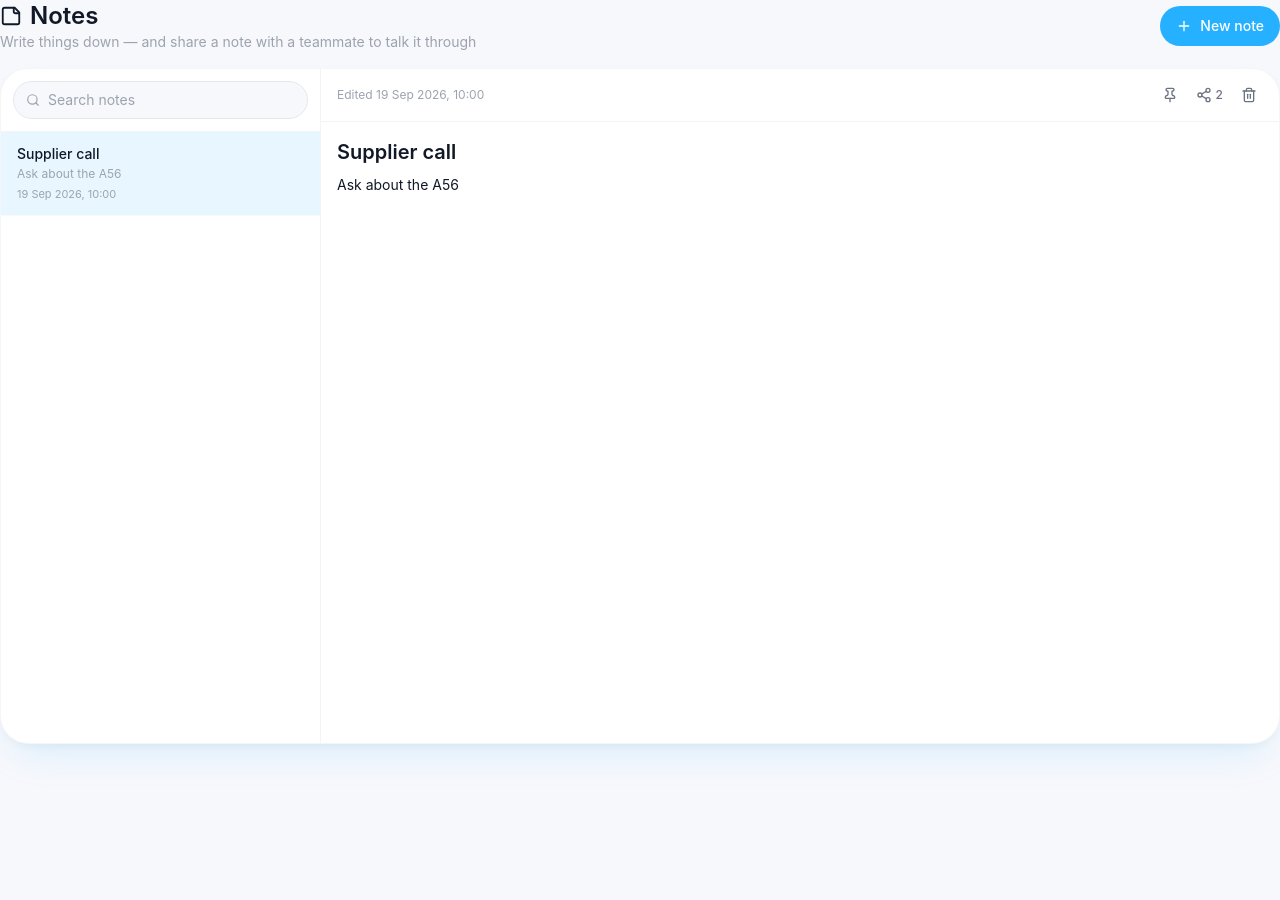
Scenario: NotesPage › sharing › doesn't offer people who already have access
Click the button named "Share note" at (1209, 95), box [1188,81,1231,109]
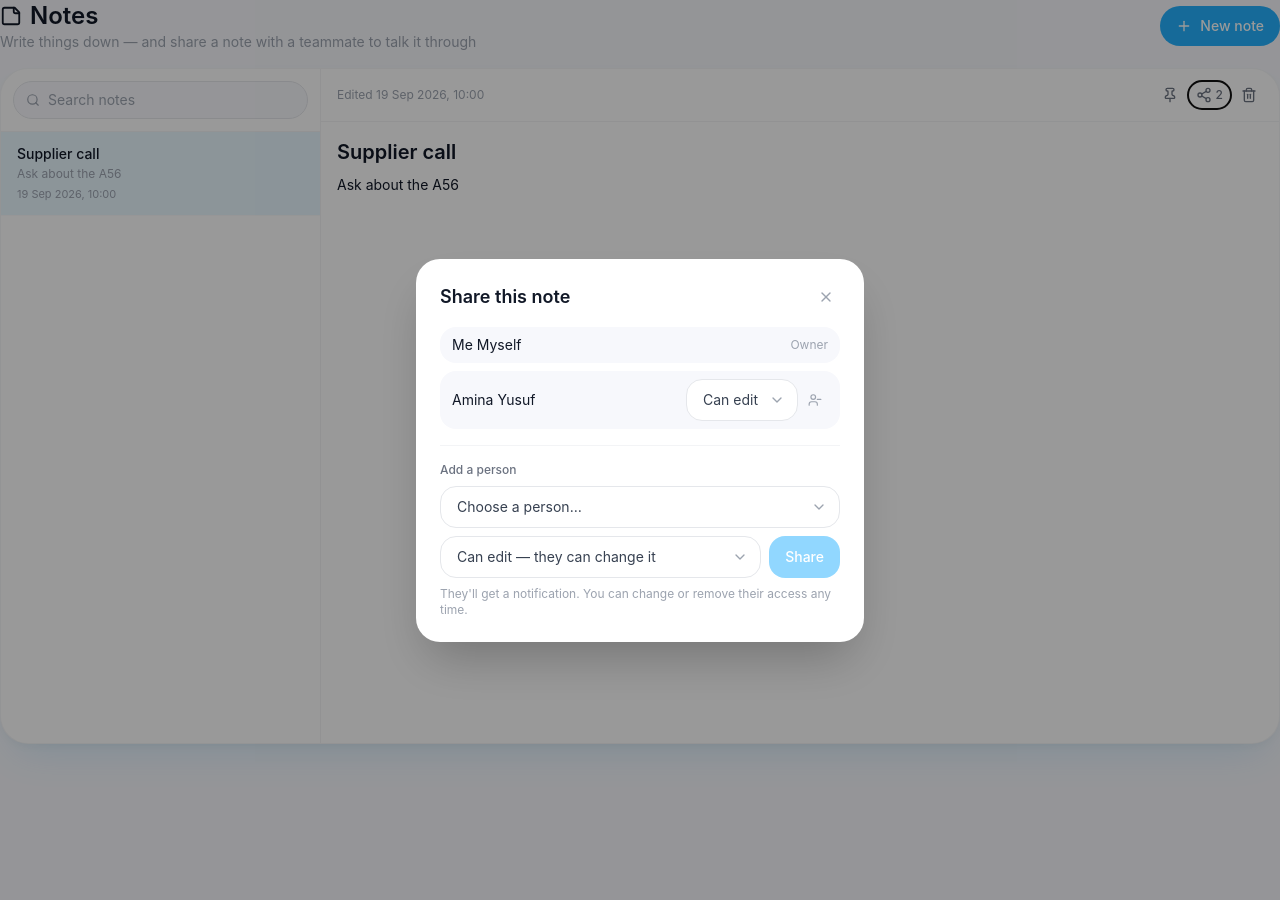
Click the button "Choose a person…" at (519, 506), box [440,486,840,528]
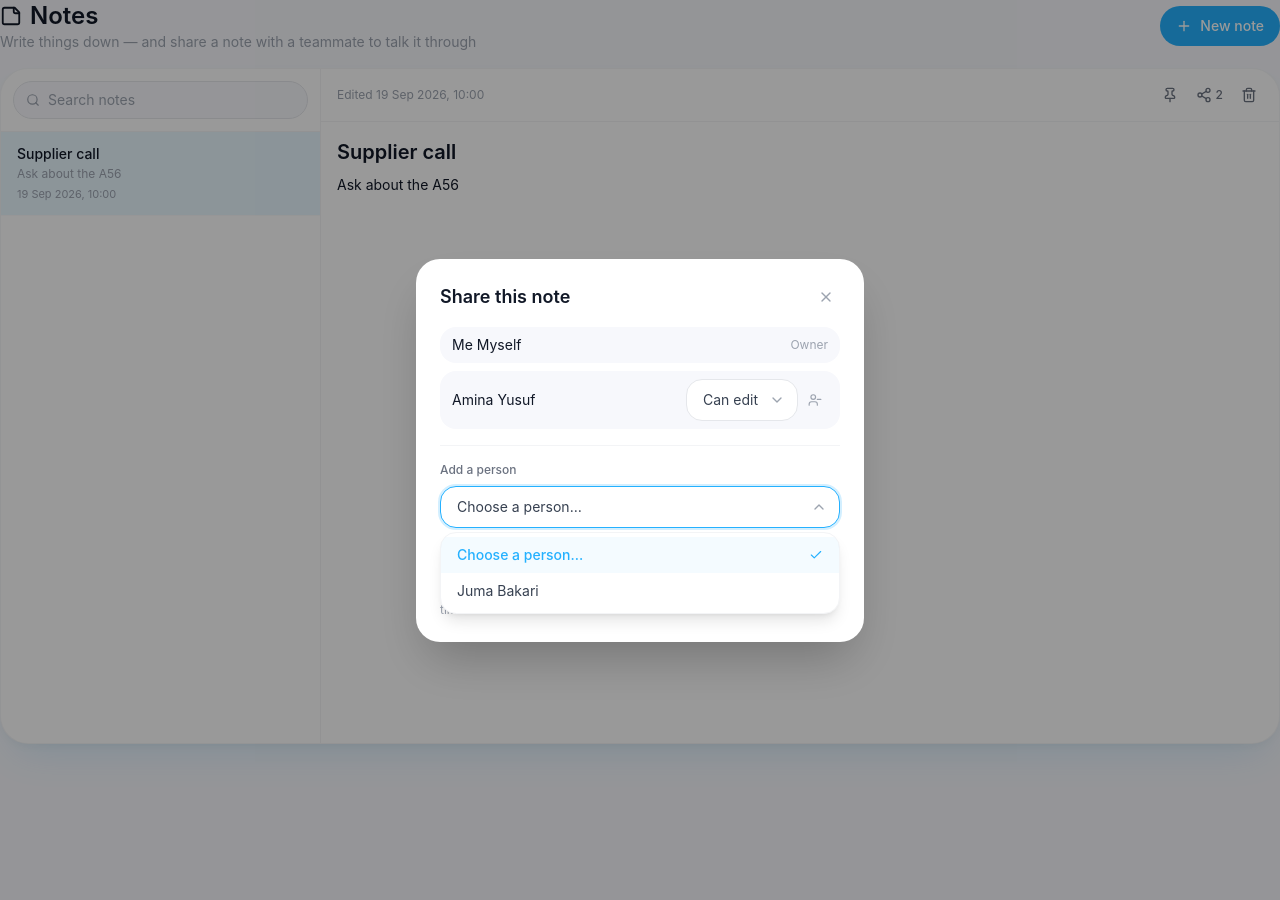
Expected: the option "Juma Bakari" is shown, [441,572,839,608]
